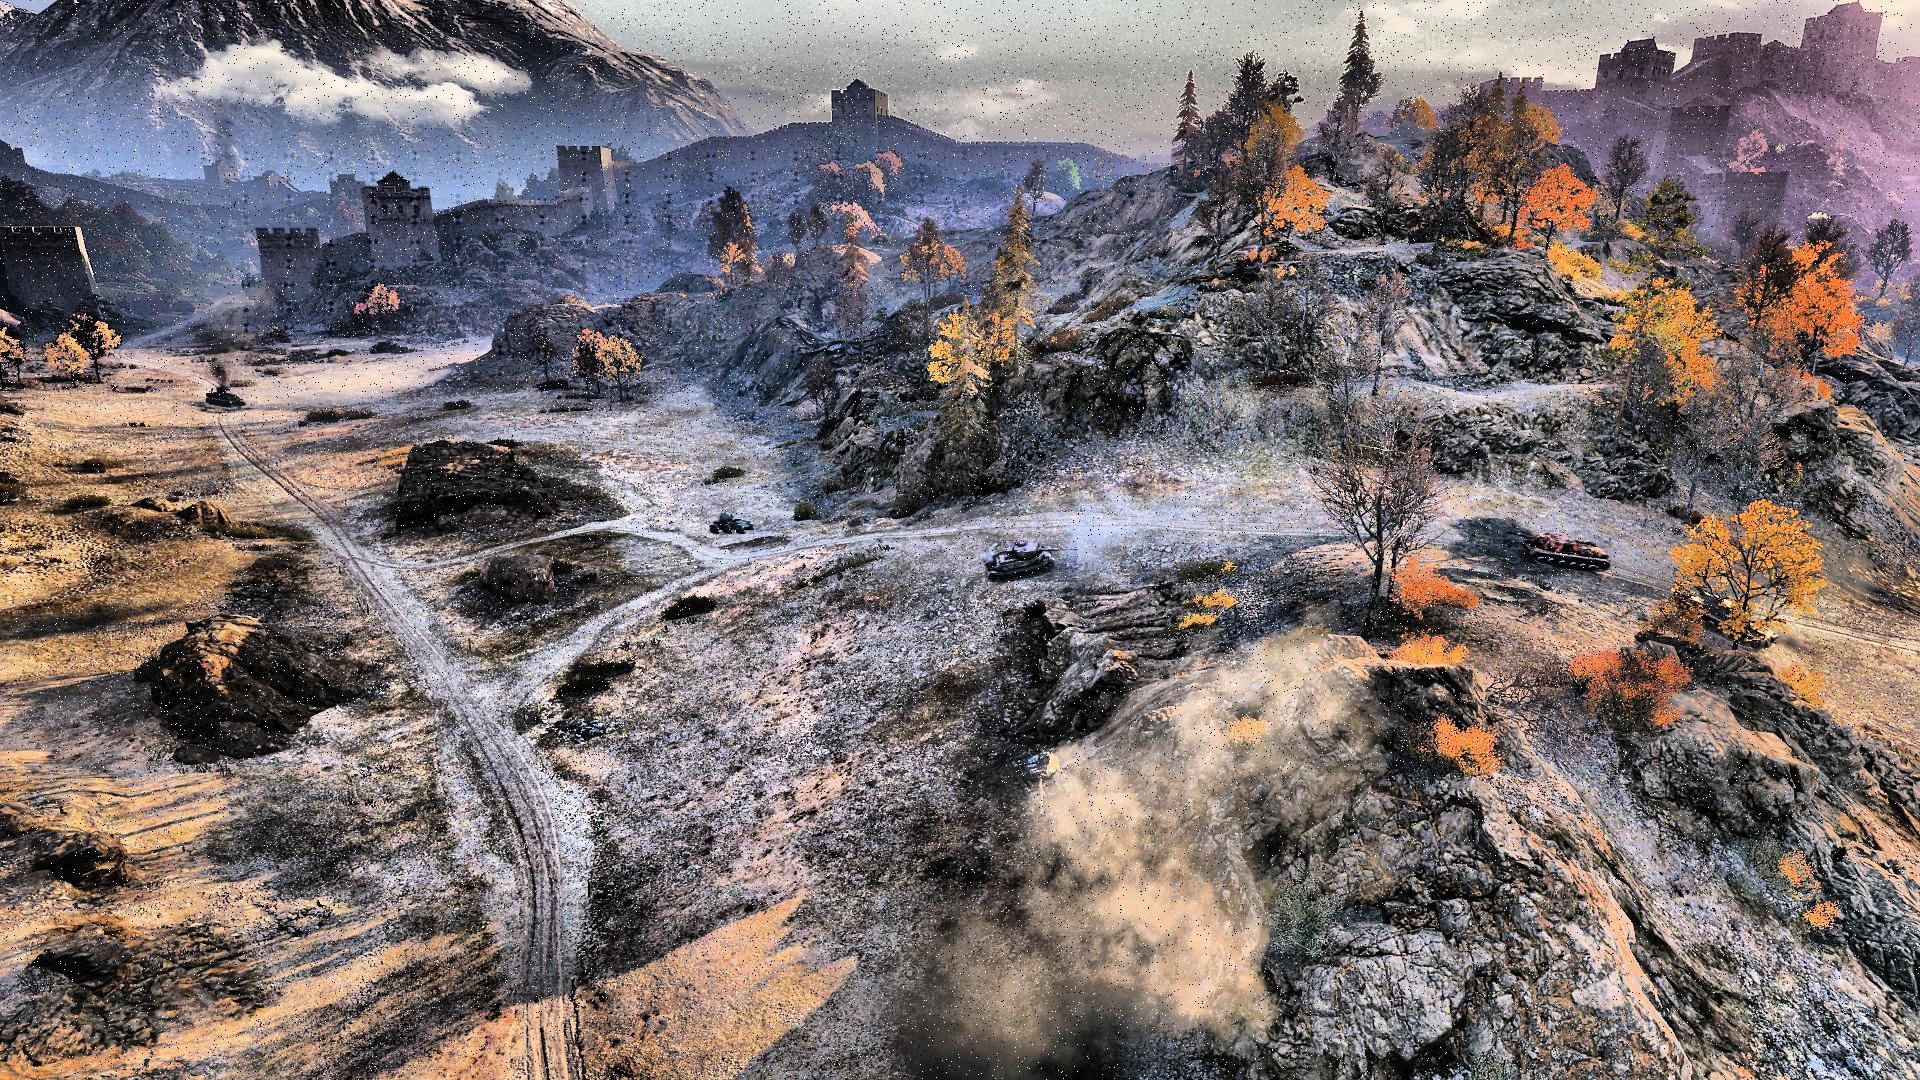military-vehicle: (1503, 530, 1611, 574), (985, 541, 1077, 583)
